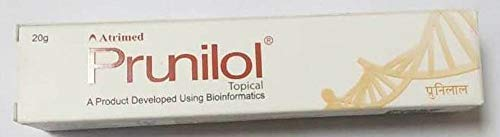209: (32, 24, 52, 52)
Topical: (228, 81, 263, 92)
